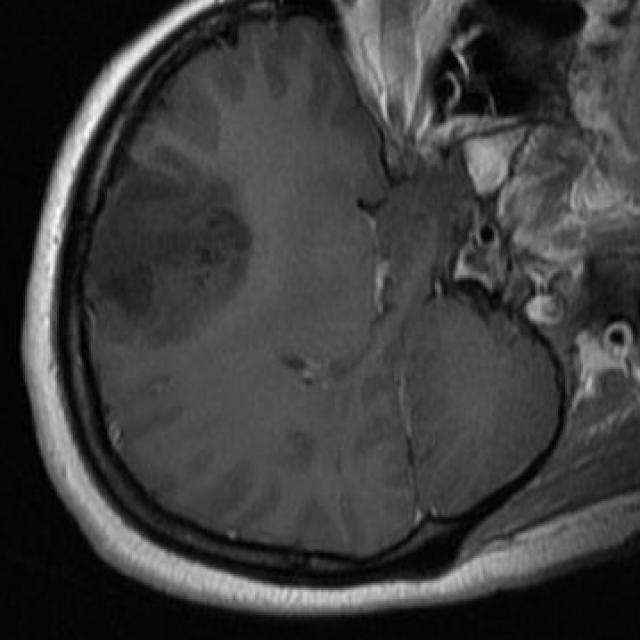glioma: (91, 159, 253, 342)
